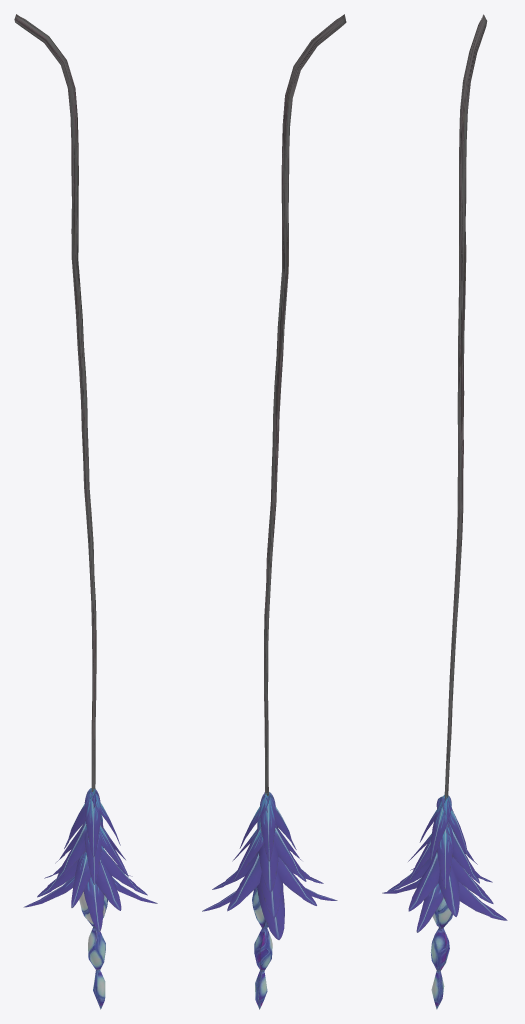
3 views of the same model, side by side, from view 1: azimuth 30°, elevation 25°; view 2: azimuth 210°, elevation 25°; view 3: azimuth 270°, elevation 25° (orthographic). The views are drawn at different scales.
Parts seen in each view (by area): view 1: SM_Hero_Tree_Flowers_04_LOD0; view 2: SM_Hero_Tree_Flowers_04_LOD0; view 3: SM_Hero_Tree_Flowers_04_LOD0.
Boxes of the visible parts, left/top/right/bottom form: SM_Hero_Tree_Flowers_04_LOD0: left=14, top=14, right=157, bottom=1009; SM_Hero_Tree_Flowers_04_LOD0: left=202, top=14, right=346, bottom=1009; SM_Hero_Tree_Flowers_04_LOD0: left=382, top=14, right=507, bottom=1009.
Size of the model in its own units: 0.8085 by 6.37 by 0.8099.
1 material, 1 textured.
